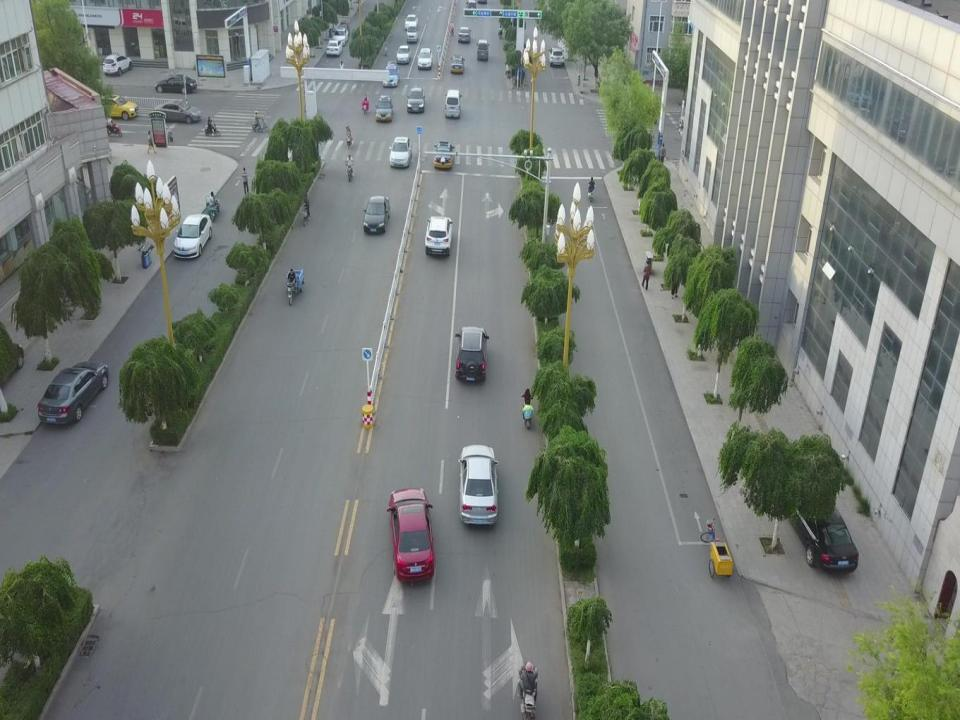car: (786, 487, 860, 574), (36, 361, 110, 428), (386, 486, 436, 580), (459, 445, 499, 525), (172, 212, 213, 259), (454, 325, 489, 379), (425, 215, 453, 254), (362, 193, 390, 232), (98, 94, 139, 120), (153, 102, 201, 124), (155, 74, 197, 94), (389, 136, 413, 168), (103, 55, 133, 76), (434, 141, 455, 169), (406, 87, 425, 114), (375, 95, 393, 122), (382, 63, 399, 87), (548, 47, 565, 68), (418, 48, 433, 70), (450, 53, 466, 73), (395, 45, 412, 63), (332, 27, 348, 45), (326, 40, 343, 56), (458, 26, 472, 44), (404, 13, 418, 27), (339, 18, 351, 30), (465, 0, 477, 8)
van: (444, 88, 462, 118), (477, 39, 489, 61), (406, 23, 419, 43)
